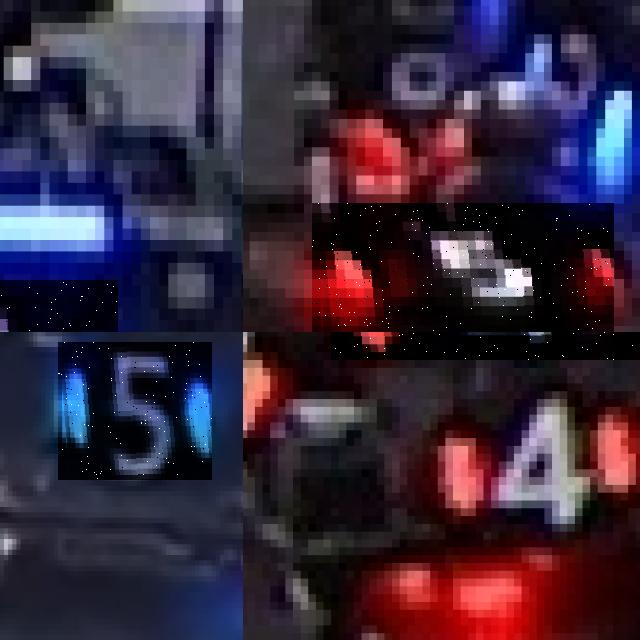B5: (58, 342, 212, 480)
R4: (430, 383, 640, 539), (331, 332, 640, 360), (243, 332, 277, 438)
R5: (312, 203, 614, 332)
